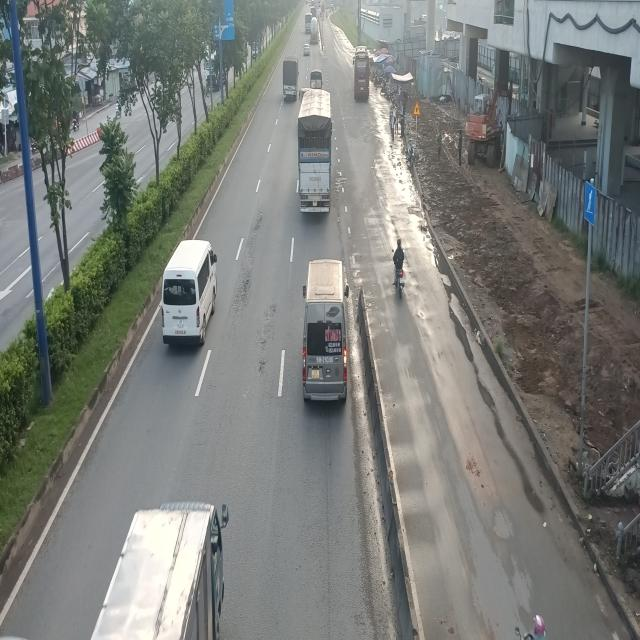coach: (354, 48, 370, 103)
truck: (91, 500, 225, 640), (296, 87, 332, 215), (281, 58, 299, 103)
van: (300, 262, 349, 404), (162, 239, 221, 348)
